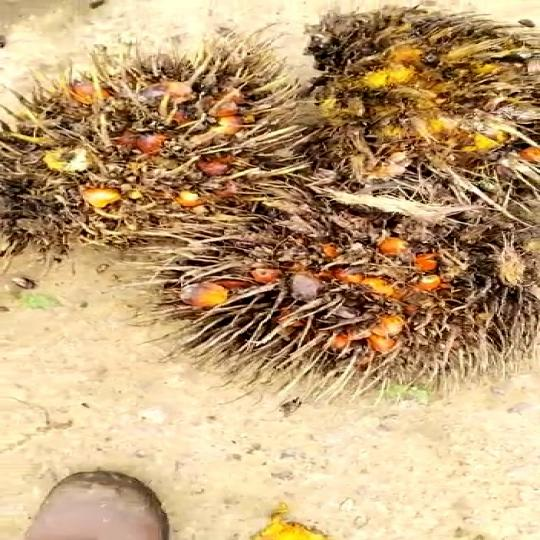terlalu masak: (0, 55, 324, 252), (146, 216, 540, 363), (272, 10, 540, 196)
